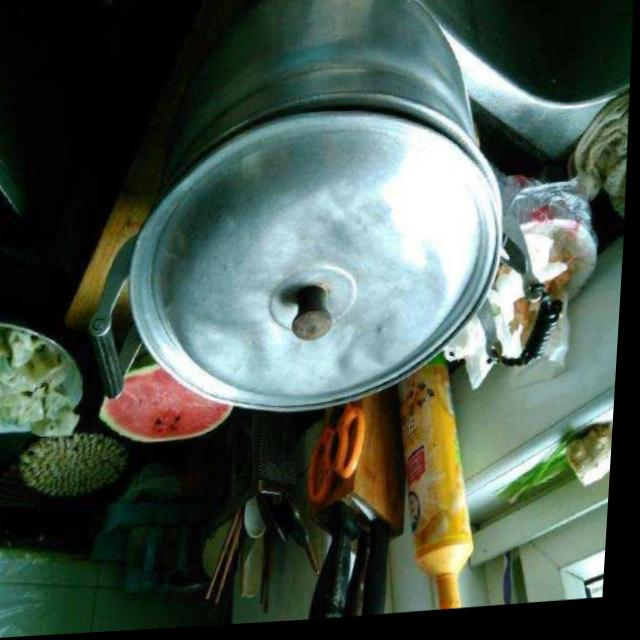Wet: (100, 337, 243, 448)
